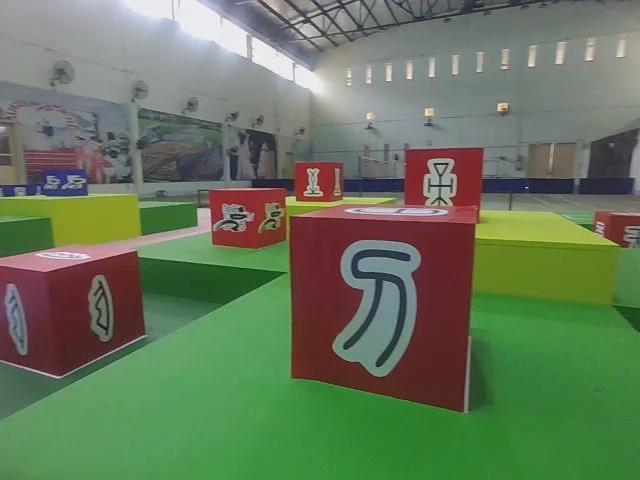R1: (207, 184, 289, 251)
R2 Fake: (287, 202, 481, 414)
R2 Real: (0, 243, 149, 378), (401, 146, 486, 226), (295, 159, 345, 205)
